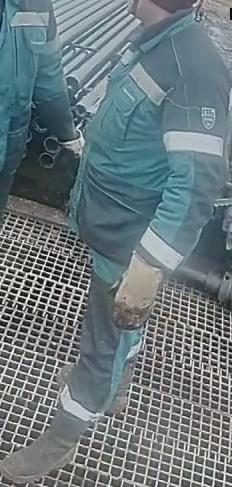gloves: (107, 250, 164, 330), (60, 126, 86, 158)
vest: (67, 10, 231, 282), (0, 0, 63, 176)
